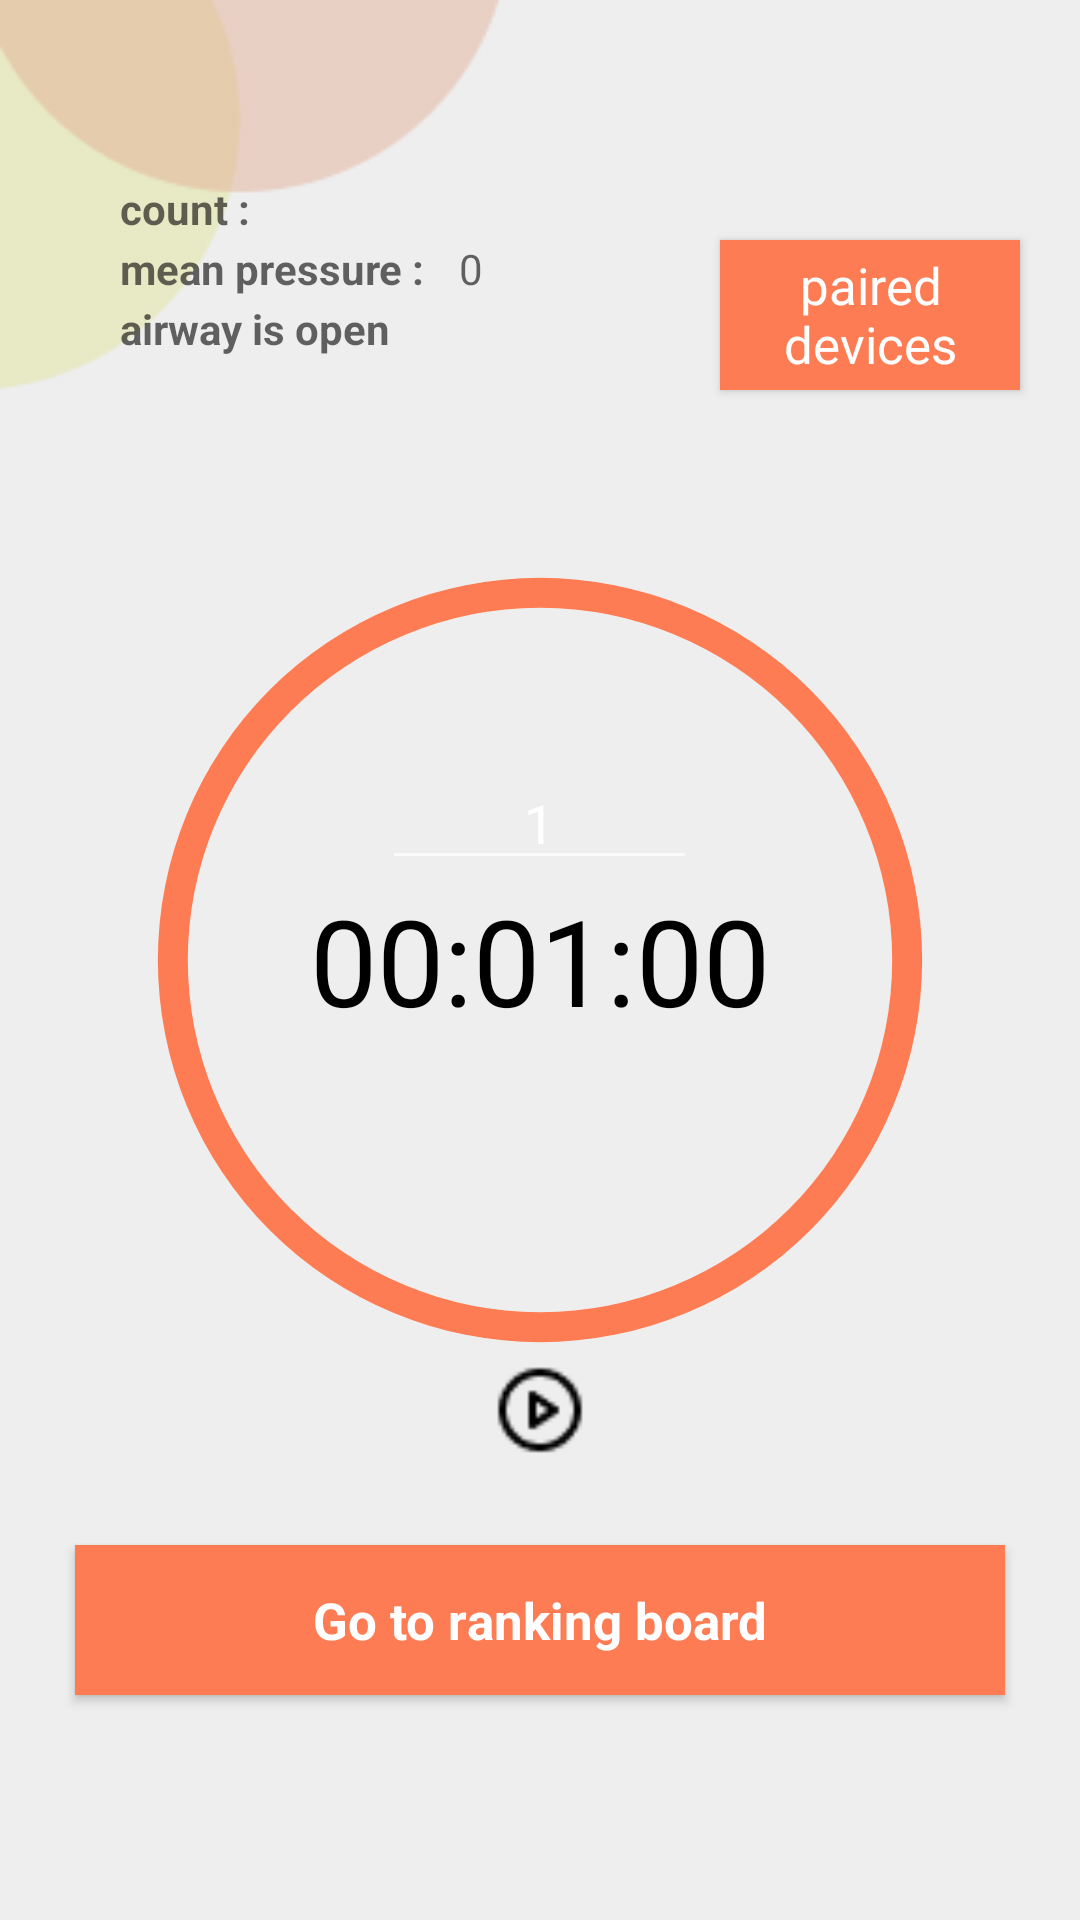

Icons on this 1080*1920 Android screen, each with its box as (x1, y1, x2, y2):
play circle: (497, 1367, 583, 1453)
